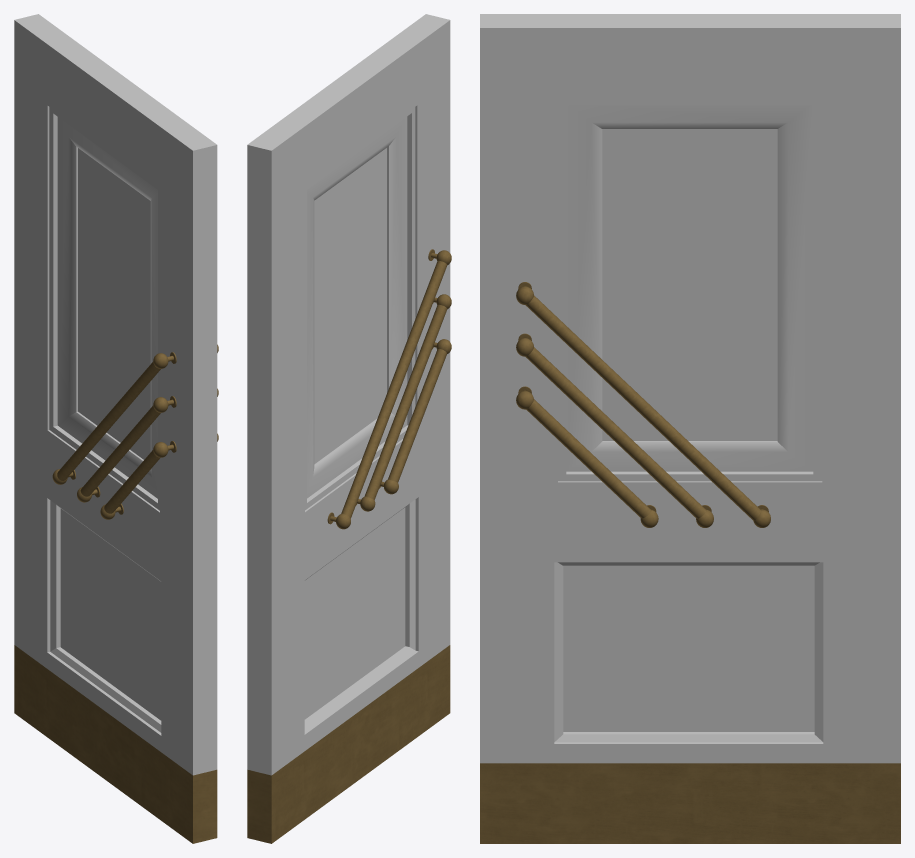
File: SM_WD23_DOOR_2.fbx
3 views of the same model, side by side, from view 1: azimuth 30°, elevation 25°; view 2: azimuth 150°, elevation 25°; view 3: azimuth 270°, elevation 25° (orthographic). The views are drawn at different scales.
Parts seen in each view (by area): view 1: SM_WD23_DOOR_2; view 2: SM_WD23_DOOR_2; view 3: SM_WD23_DOOR_2.
Part boxes in pixels (<box>): SM_WD23_DOOR_2: <box>14,14,218,843</box>; SM_WD23_DOOR_2: <box>247,14,451,843</box>; SM_WD23_DOOR_2: <box>480,14,900,843</box>.
Bounding box in the file's own units: 22.6 × 110 × 236.
